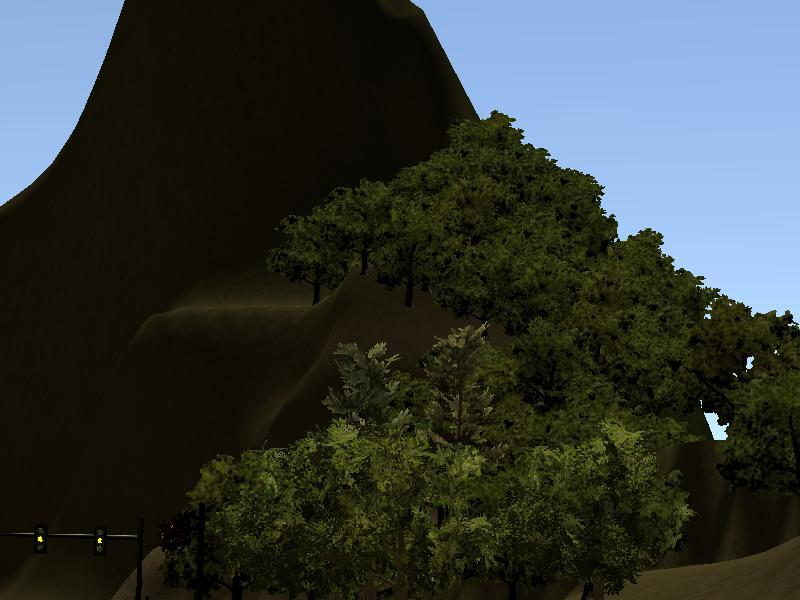Yellow: (33, 524, 47, 557), (93, 525, 106, 557)
